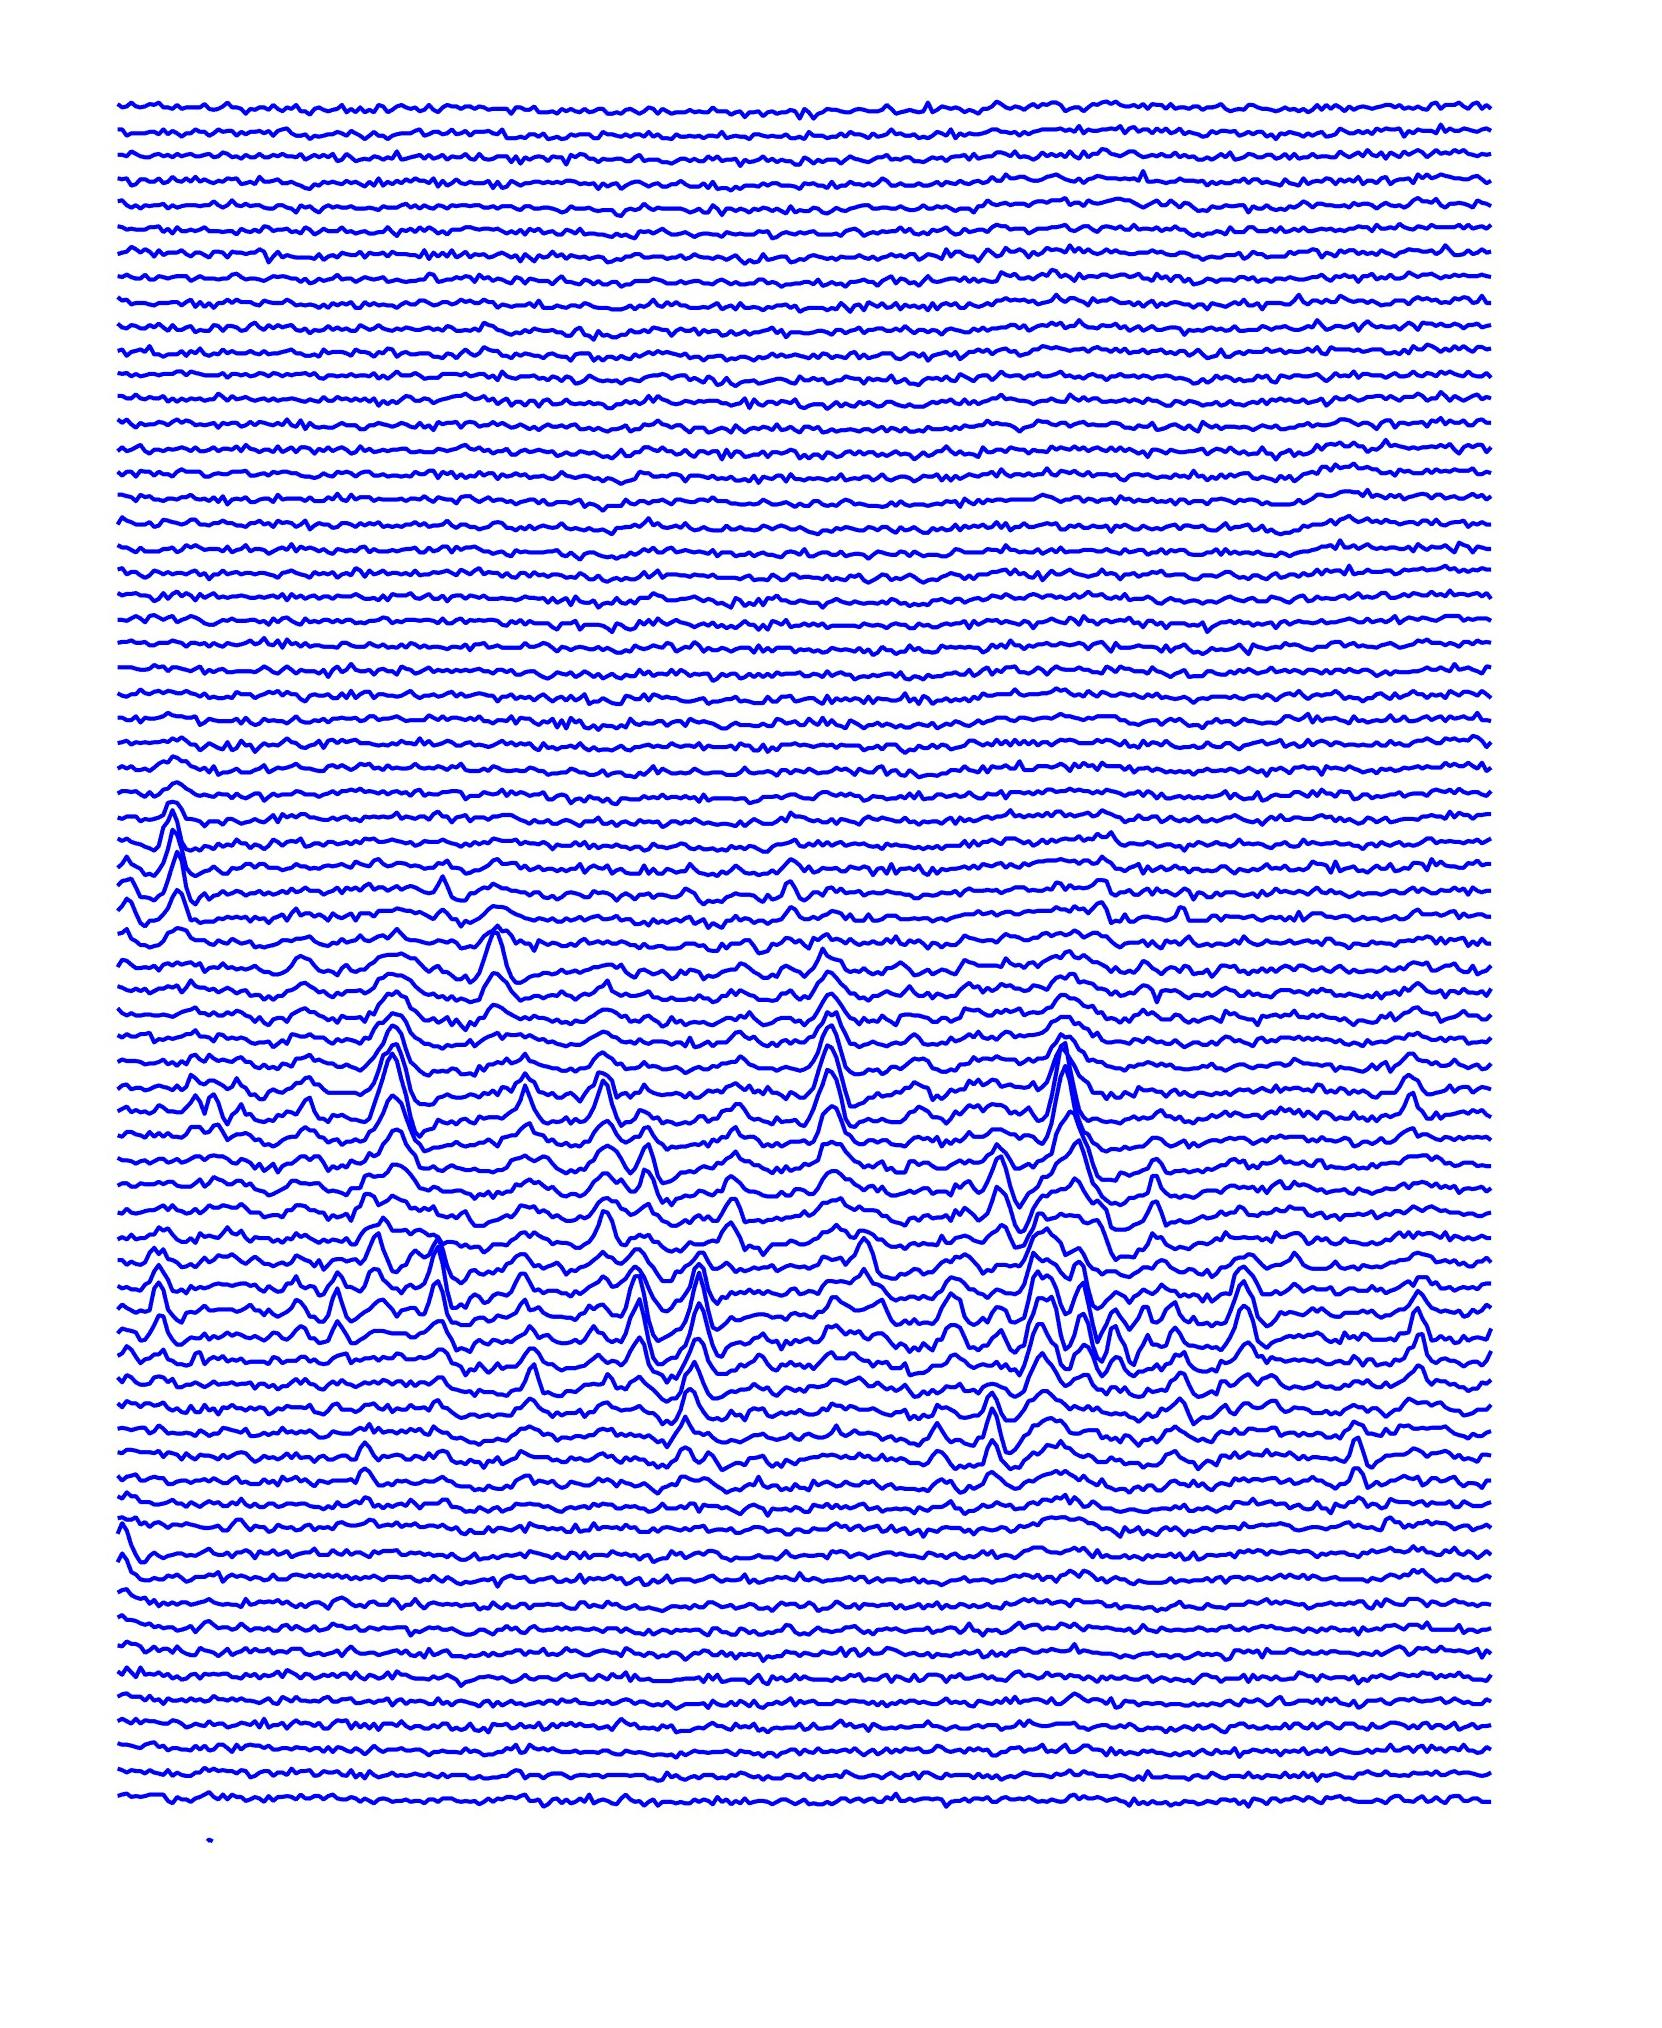defect: (583, 1211, 749, 1450), (295, 1219, 477, 1364), (786, 933, 876, 1172), (1014, 1034, 1132, 1203), (1000, 1225, 1113, 1398), (349, 977, 446, 1174), (578, 1066, 679, 1201), (1120, 1267, 1209, 1413), (1376, 1031, 1455, 1194), (918, 1203, 988, 1368), (502, 1214, 556, 1413), (170, 1043, 261, 1155), (1216, 1240, 1276, 1406), (158, 775, 210, 953), (1313, 1406, 1381, 1545), (1393, 1300, 1462, 1423), (461, 905, 534, 1009), (131, 1240, 185, 1368), (820, 1218, 892, 1307), (977, 1395, 1022, 1487), (507, 1059, 552, 1150), (1135, 1144, 1179, 1236), (914, 1406, 955, 1494), (352, 1413, 387, 1501)
